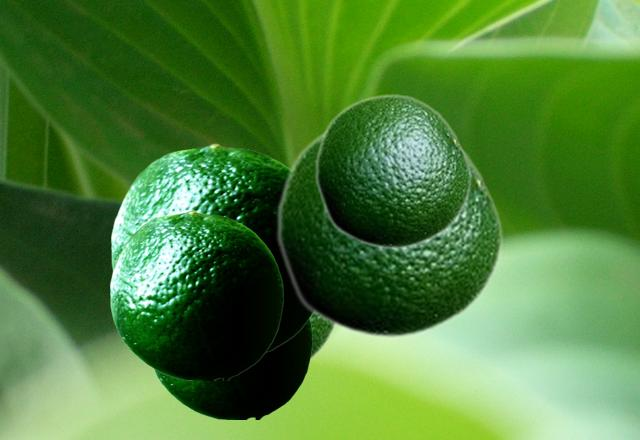calamansi: (275, 127, 503, 339), (111, 143, 311, 354), (110, 210, 282, 379), (314, 93, 471, 249), (154, 319, 311, 418), (311, 316, 337, 363)
